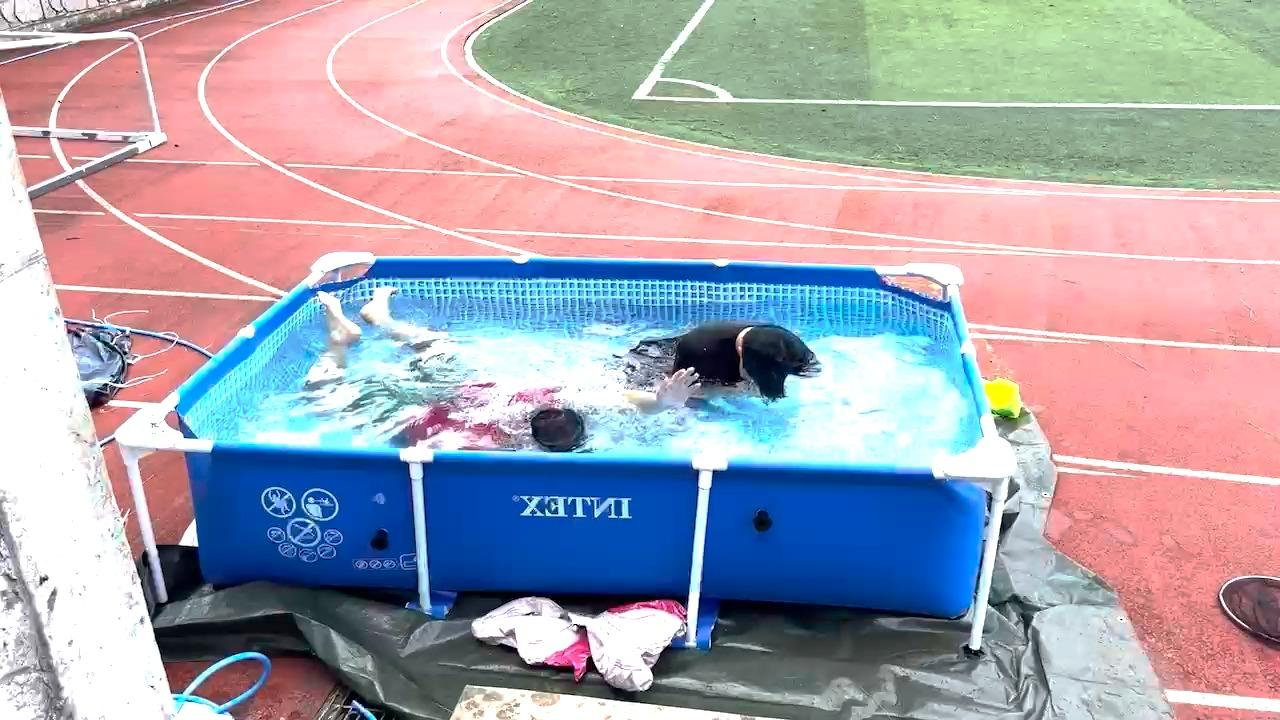Drowning: (309, 283, 676, 445), (626, 316, 814, 400)
